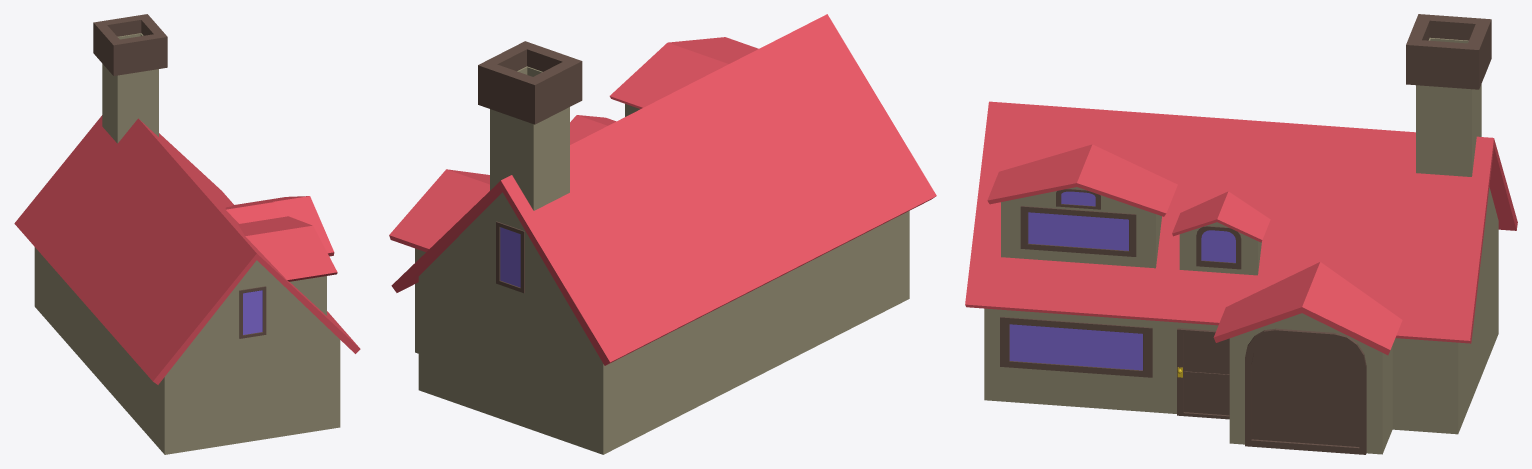
Rendered from CALLE9_CASA1_054.fbx.
3 views of the same model, side by side, from view 1: azimuth 30°, elevation 25°; view 2: azimuth 150°, elevation 25°; view 3: azimuth 270°, elevation 25° (orthographic). The views are drawn at different scales.
Parts seen in each view (by area): view 1: CASA1.054; view 2: CASA1.054; view 3: CASA1.054.
Boxes of the visible parts, box(x1,y1,x2,y2) form: CASA1.054: box(14, 14, 360, 454); CASA1.054: box(389, 14, 936, 454); CASA1.054: box(965, 14, 1517, 454).
Bounding box in the file's own units: 789 × 734 × 1051.
